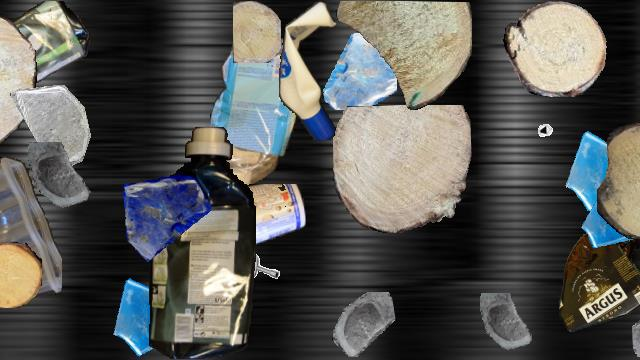glass: (117, 172, 211, 266), (109, 269, 199, 359), (563, 124, 640, 216), (10, 85, 94, 169), (23, 142, 101, 220), (320, 33, 396, 109), (475, 293, 541, 359), (331, 292, 395, 356), (581, 190, 640, 254), (632, 294, 640, 356)
metal: (238, 252, 286, 300), (535, 107, 573, 145)
plastic: (148, 127, 256, 359), (210, 35, 296, 209), (0, 1, 91, 103), (279, 1, 343, 139), (0, 157, 62, 299), (559, 224, 640, 332), (206, 184, 306, 254)
wood: (333, 105, 471, 233), (336, 1, 472, 109), (503, 1, 607, 97), (0, 4, 36, 152), (597, 122, 640, 240), (233, 1, 281, 63), (0, 242, 41, 308)
